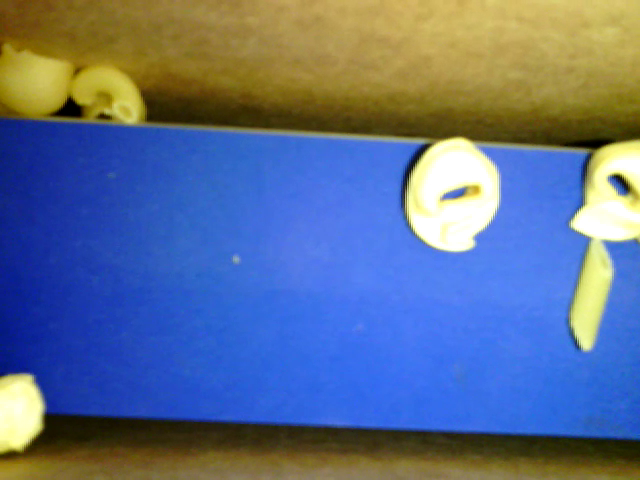elbow: (70, 65, 140, 122)
penne: (568, 237, 613, 350)
shell: (1, 44, 73, 116), (84, 93, 146, 123)
tortellini: (403, 137, 501, 253), (569, 139, 639, 241)
